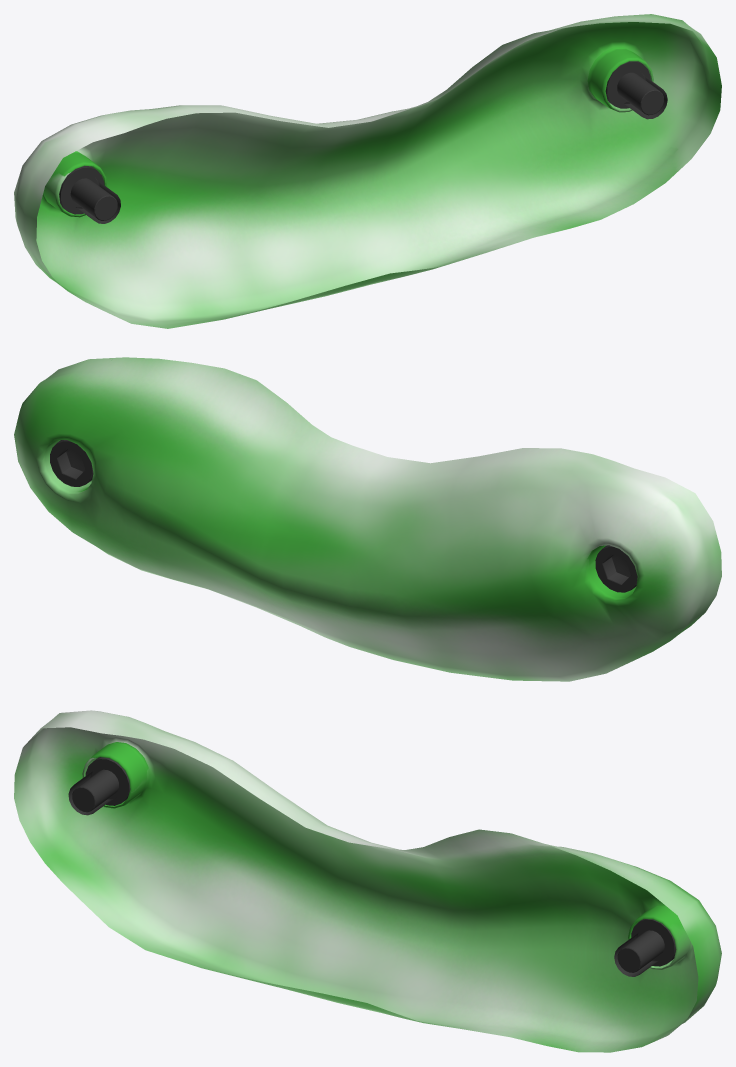
Rendered from Hold3.obj.
The picture shows the model from 3 angles, top to bottom: view 1: azimuth 30°, elevation 25°; view 2: azimuth 150°, elevation 25°; view 3: azimuth 330°, elevation 25°; orthographic projection.
Visible parts, largest first — view 1: Body.001, Screws.002; view 2: Body.001, Screws.002; view 3: Body.001, Screws.002.
Part boxes in pixels (x1=…): Body.001: x1=14, y1=14, x2=721, y2=328; Screws.002: x1=59, y1=61, x2=667, y2=223; Body.001: x1=14, y1=357, x2=721, y2=681; Screws.002: x1=50, y1=440, x2=637, y2=592; Body.001: x1=14, y1=710, x2=721, y2=1052; Screws.002: x1=68, y1=757, x2=676, y2=976.
Size of the model in its own units: 0.3905 by 0.1267 by 0.0501.
Materials: 2 (1 with a texture image).
